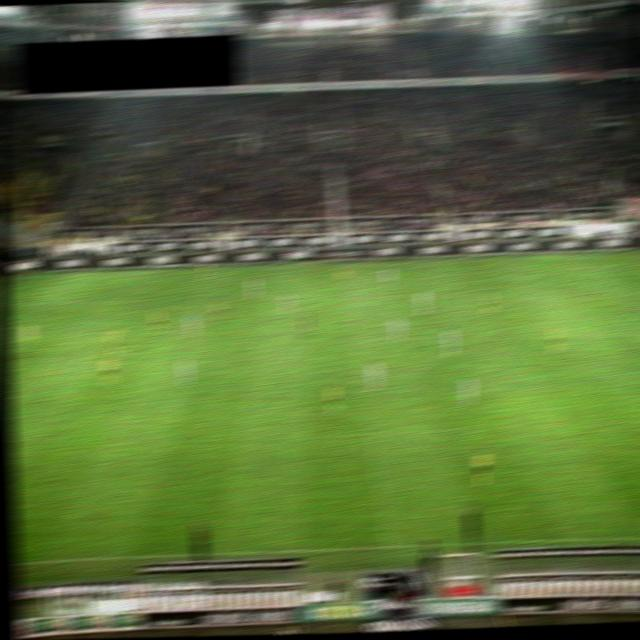bigarea_top_inner: (92, 295, 110, 306), (584, 278, 601, 288)
bottom_arc_area_intersection: (16, 381, 35, 392)
corner: (19, 270, 37, 283)
halfcircle_bottom: (354, 376, 371, 388)
halfcircle_top: (343, 314, 360, 325)
midline_bottom_intersection: (378, 538, 399, 553)
midline_top_intersection: (334, 261, 349, 270)
top_arc_area_intersection: (61, 329, 80, 340), (622, 306, 640, 317)
